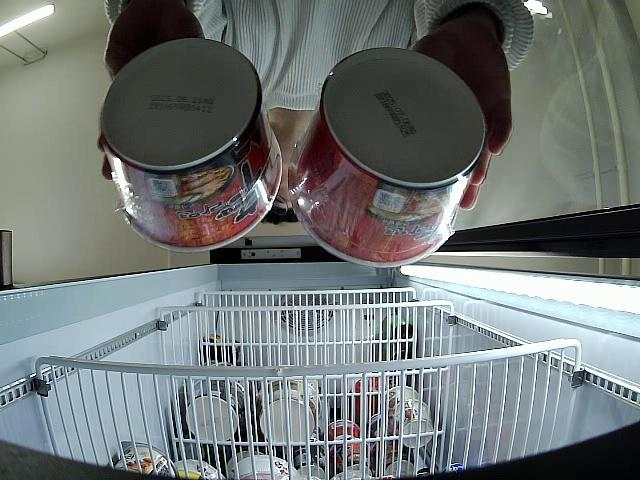00_hand: (413, 14, 513, 211), (96, 6, 205, 181)
01_shinRamen_L: (287, 46, 488, 269), (97, 36, 283, 254)
